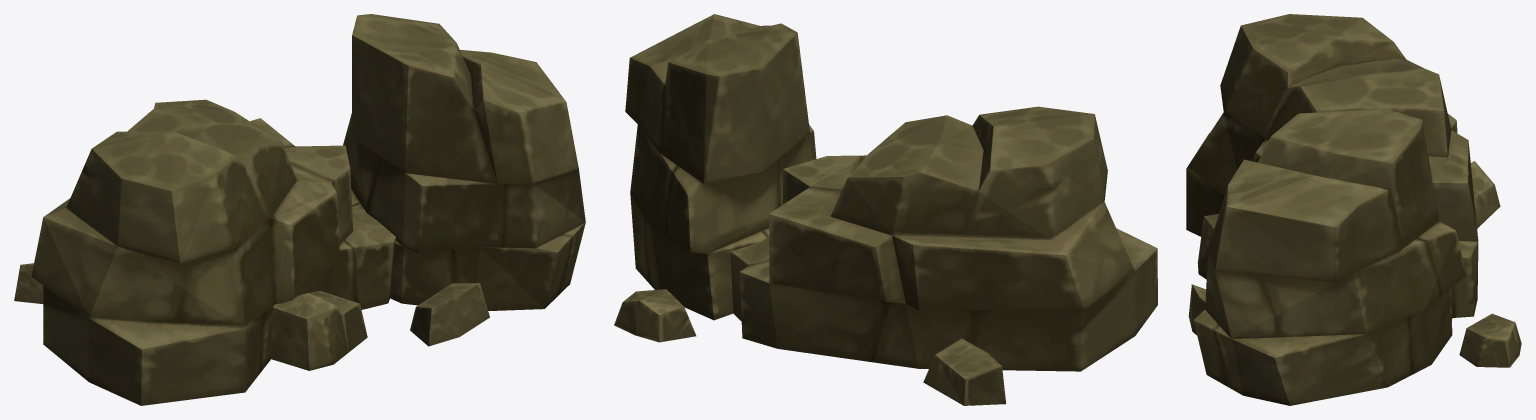
The model's file is rockwall_straight_04.fbx.
3 views of the same model, side by side, from view 1: azimuth 30°, elevation 25°; view 2: azimuth 150°, elevation 25°; view 3: azimuth 270°, elevation 25° (orthographic). The views are drawn at different scales.
Parts seen in each view (by area): view 1: obj0.151; view 2: obj0.151; view 3: obj0.151.
Boxes of the visible parts, x1,y1,x2,y2 form: obj0.151: [14, 14, 585, 405]; obj0.151: [614, 14, 1157, 405]; obj0.151: [1186, 14, 1521, 405].
Size of the model in its own units: 4.85 by 2.16 by 2.99.
